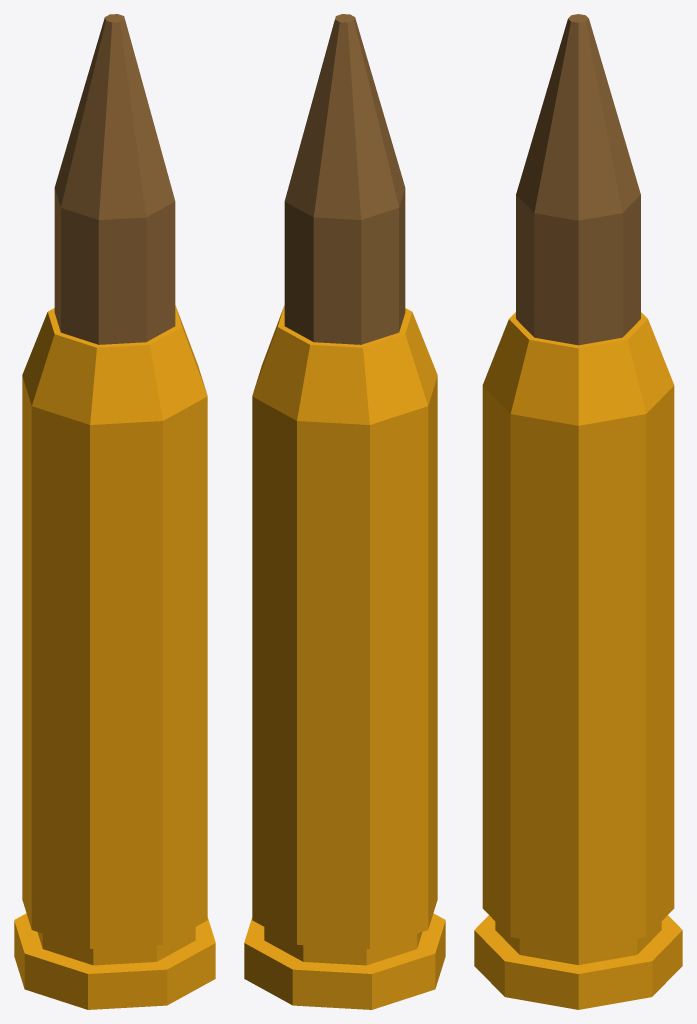
The model's file is MediumAmmo.fbx.
3 renders of one model, left to right at view 1: azimuth 30°, elevation 25°; view 2: azimuth 150°, elevation 25°; view 3: azimuth 270°, elevation 25°, orthographic.
Parts seen in each view (by area): view 1: Medium Ammo; view 2: Medium Ammo; view 3: Medium Ammo.
Boxes of the visible parts, x1,y1,x2,y2 form: Medium Ammo: (14,14,215,1009); Medium Ammo: (244,14,445,1009); Medium Ammo: (474,14,682,1009).
Bounding box in the file's own units: 5.29 × 26.52 × 5.29.
